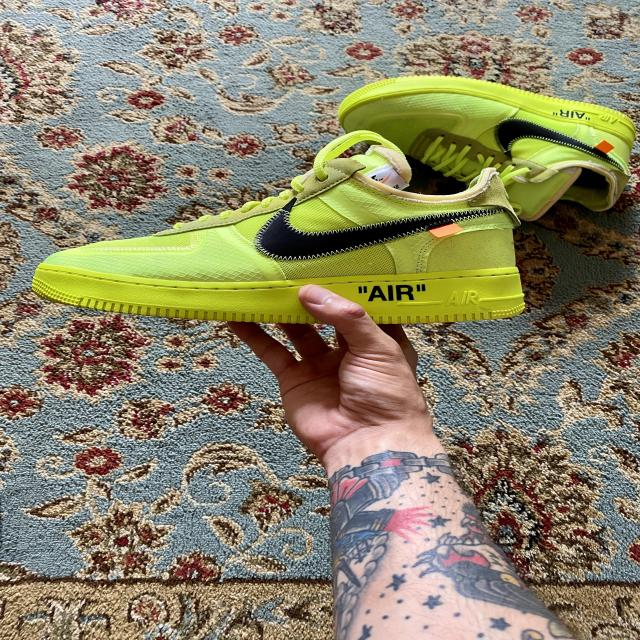shoe: (12, 127, 608, 338), (330, 70, 640, 228)
